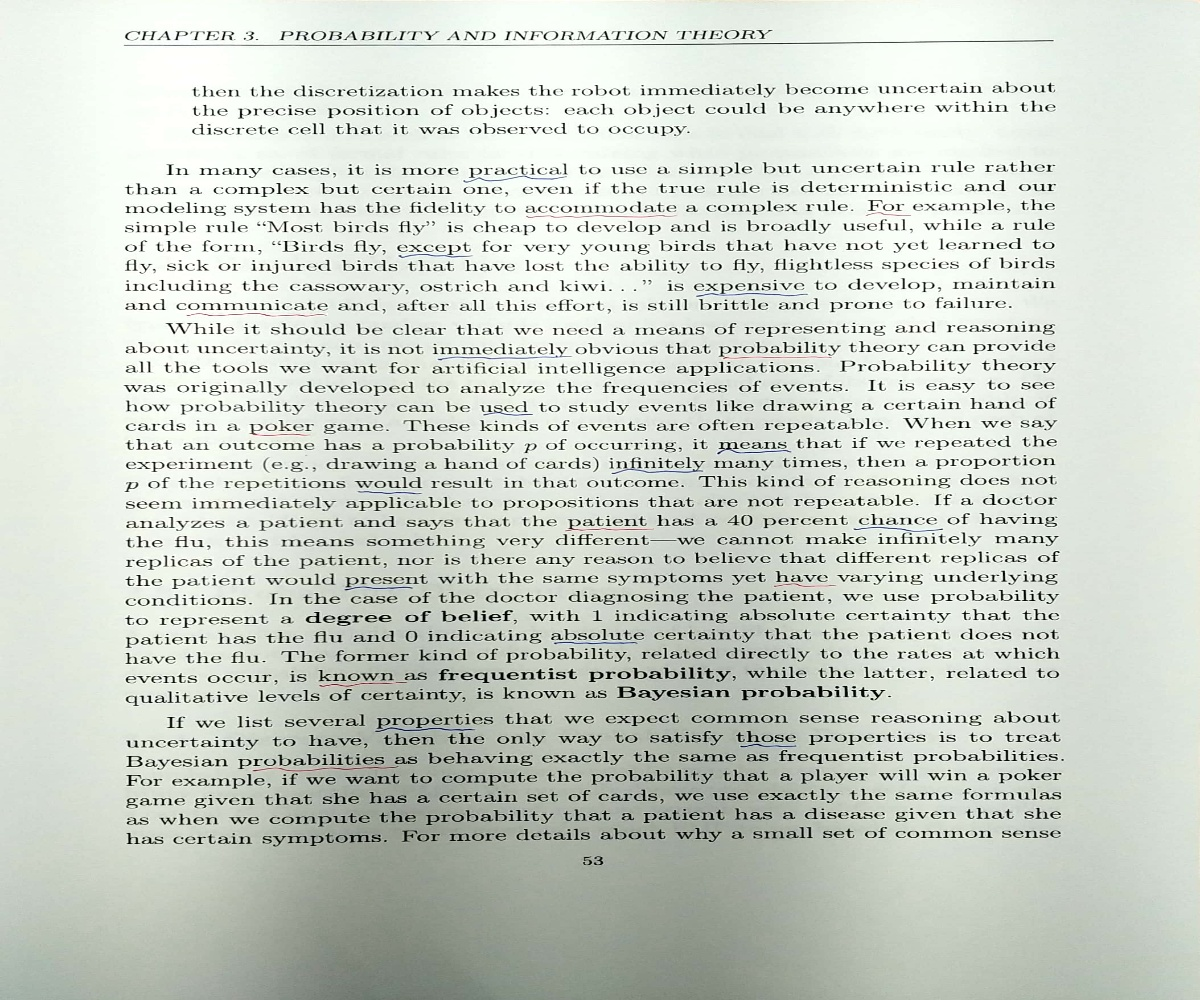underline: (247, 763, 402, 774), (185, 310, 329, 321), (521, 212, 676, 221), (463, 173, 567, 184), (434, 352, 574, 360), (371, 725, 478, 734), (850, 524, 944, 534), (609, 467, 702, 477), (694, 290, 807, 298), (721, 352, 834, 360), (355, 486, 424, 499), (397, 251, 476, 262), (769, 579, 840, 591), (715, 446, 793, 456), (563, 525, 657, 533), (317, 679, 410, 687), (246, 430, 315, 440), (865, 207, 913, 220), (552, 639, 639, 646), (739, 741, 797, 751), (480, 409, 535, 419), (342, 585, 418, 591)
